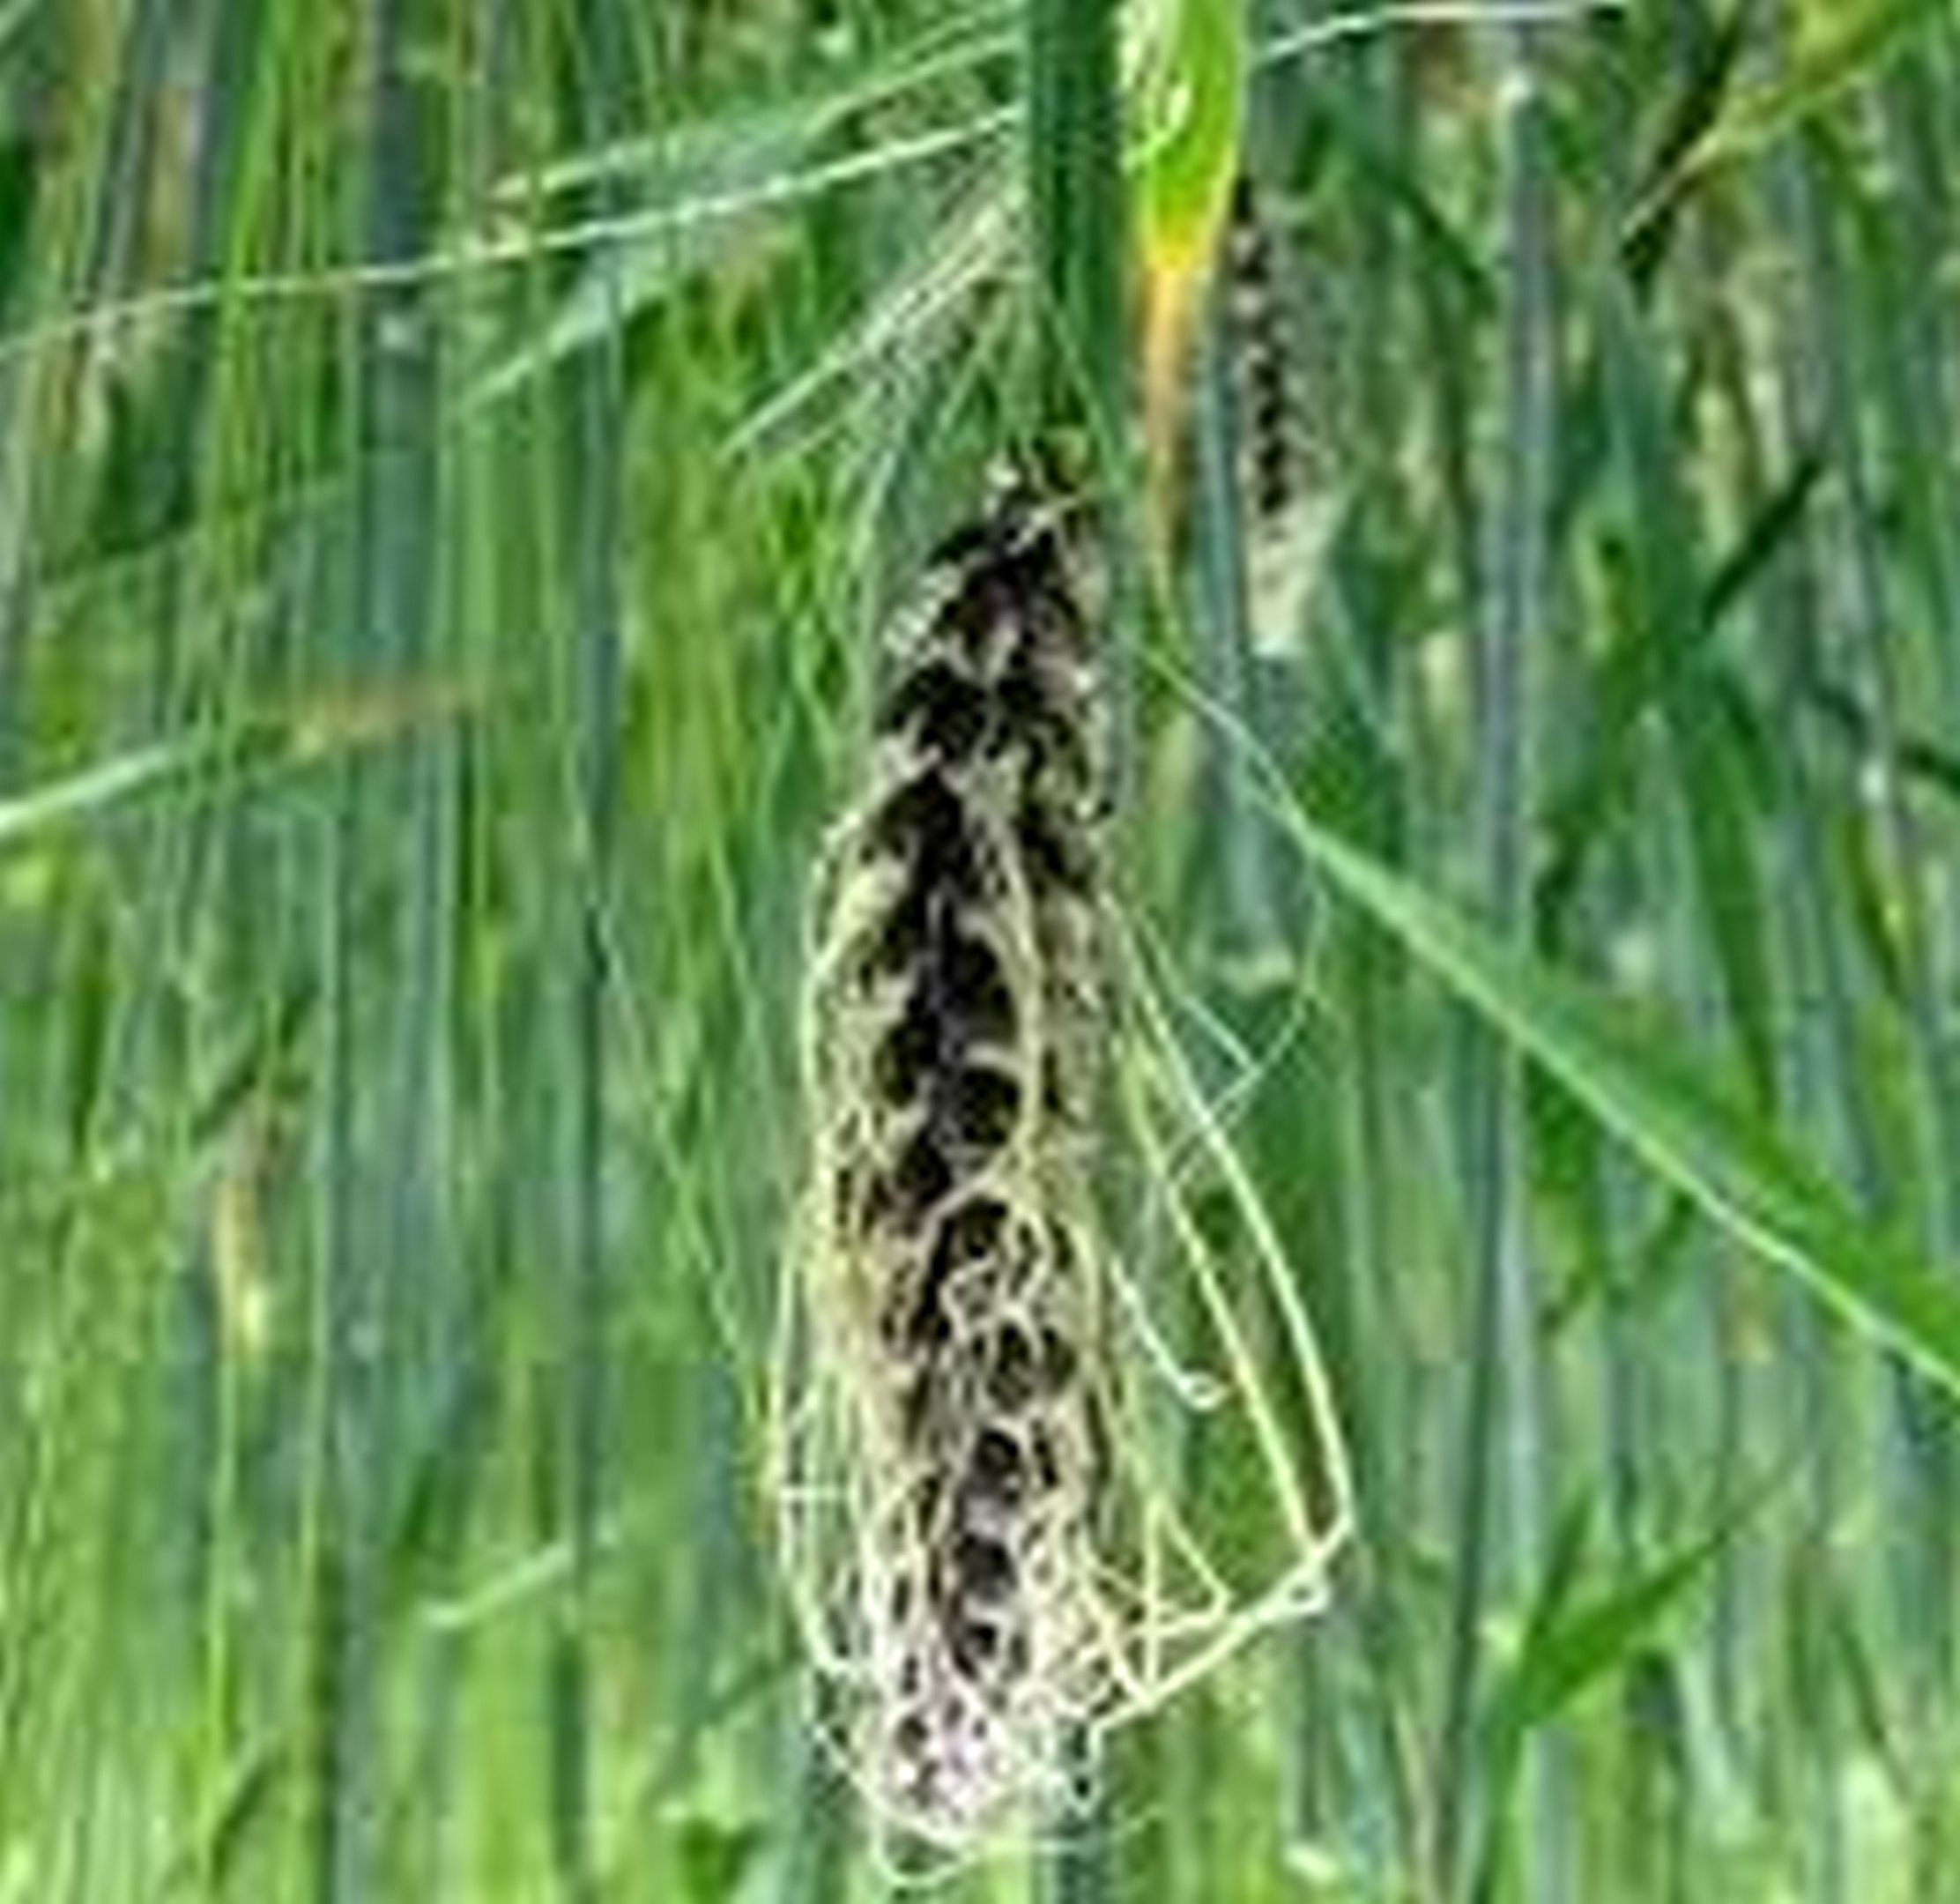Wheat Loose Smut: (759, 488, 1183, 1722)
